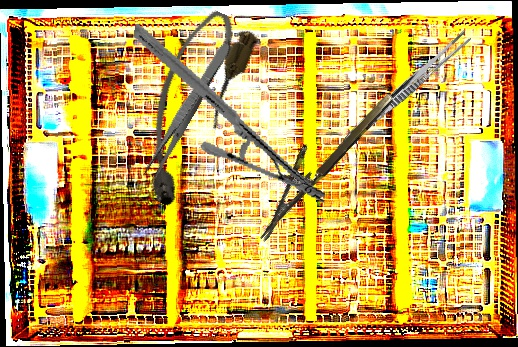Cannula: (117, 2, 263, 213)
Dressing Forceps: (339, 28, 473, 150), (141, 39, 233, 183)
Needle Holder: (105, 23, 354, 206), (236, 75, 397, 243)
